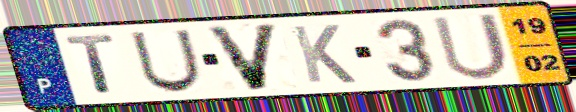3: (375, 17, 438, 83)
K: (287, 23, 360, 85)
T: (62, 33, 120, 97)
U: (428, 10, 513, 82), (126, 27, 205, 95)
V: (202, 22, 283, 94)
